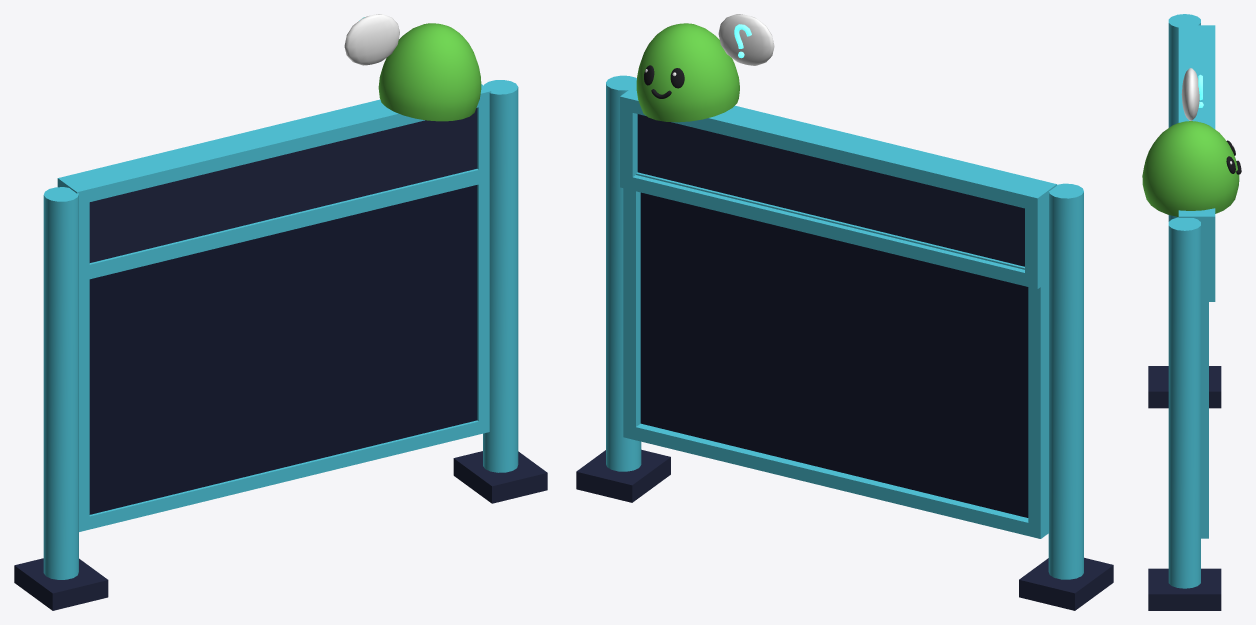
Rendered from Hub_HowToPlay.glb.
The picture shows the model from 3 angles, left to right: view 1: azimuth 30°, elevation 25°; view 2: azimuth 150°, elevation 25°; view 3: azimuth 270°, elevation 25°; orthographic projection. The views are drawn at different scales.
Parts seen in each view (by area): view 1: Screen, Frame, Posts, Header, Mascot, Feet, Bubble; view 2: Screen, Frame, Header, Posts, Mascot, Feet, Bubble; view 3: Posts, Mascot, Frame, Feet, Bubble, MascotEyes.
Part boxes in pixels (box(x1,y1,x2,y2)): Screen: box(89, 185, 477, 514); Frame: box(57, 84, 491, 531); Posts: box(43, 80, 518, 579); Header: box(89, 108, 477, 262); Mascot: box(378, 23, 481, 121); Feet: box(14, 451, 547, 610); Bubble: box(344, 14, 399, 65); Screen: box(640, 192, 1028, 517); Frame: box(620, 84, 1056, 538); Header: box(637, 114, 1024, 266); Posts: box(606, 75, 1083, 579); Mascot: box(636, 23, 739, 122); Feet: box(576, 449, 1113, 610); Bubble: box(718, 14, 774, 65); Posts: box(1168, 14, 1200, 588); Mascot: box(1142, 121, 1239, 216); Frame: box(1178, 25, 1215, 538); Feet: box(1148, 366, 1221, 610); Bubble: box(1181, 68, 1199, 120); MascotEyes: box(1226, 140, 1235, 173).
Bounding box in the file's own units: 17.8 × 17.05 × 3.26.
